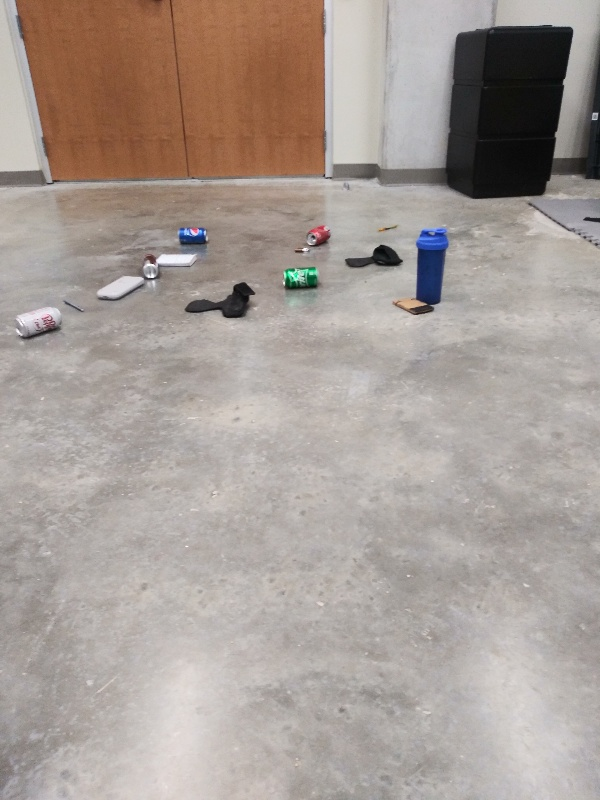can: (11, 304, 64, 340), (280, 267, 322, 290), (176, 225, 210, 247), (303, 224, 334, 248), (142, 251, 159, 282)
